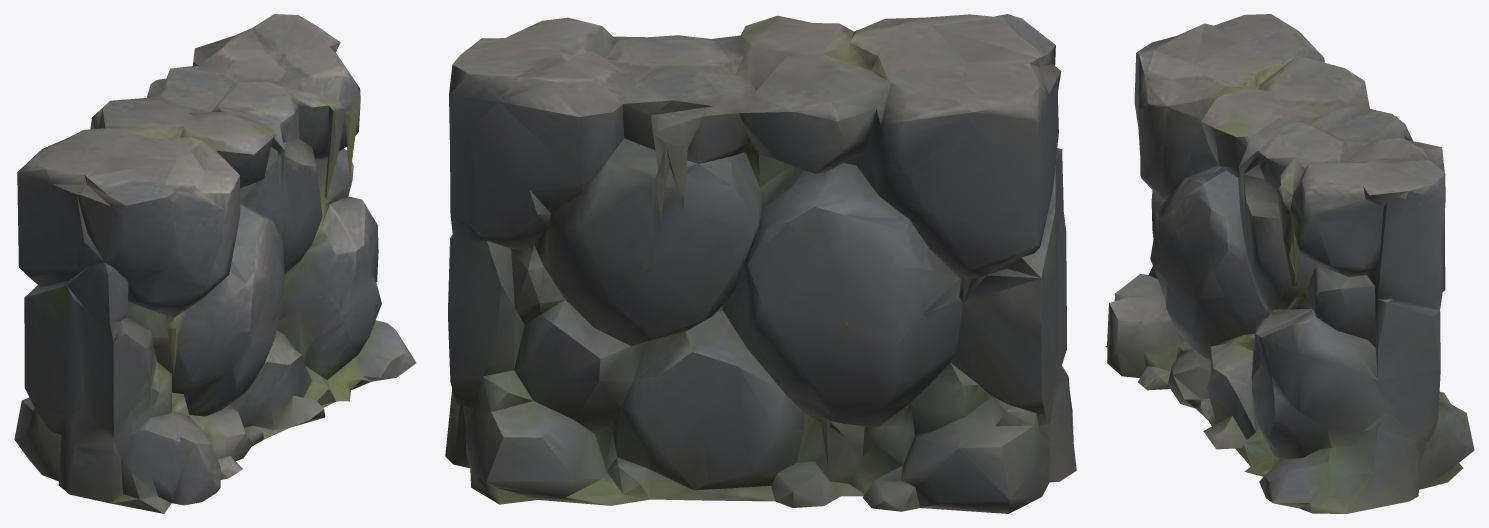
File: cueva_esquina_ext_1500.glb
3 views of the same model, side by side, from view 1: azimuth 30°, elevation 25°; view 2: azimuth 150°, elevation 25°; view 3: azimuth 270°, elevation 25° (orthographic). The views are drawn at different scales.
Parts seen in each view (by area): view 1: cueva_esquina_ext_malla; view 2: cueva_esquina_ext_malla; view 3: cueva_esquina_ext_malla.
Boxes of the visible parts, x1,y1,x2,y2 form: cueva_esquina_ext_malla: [14, 14, 416, 513]; cueva_esquina_ext_malla: [445, 14, 1076, 513]; cueva_esquina_ext_malla: [1105, 14, 1474, 513].
Bounding box in the file's own units: 0.4583 × 0.3352 × 0.3612.
Materials: 1 (1 with a texture image).
